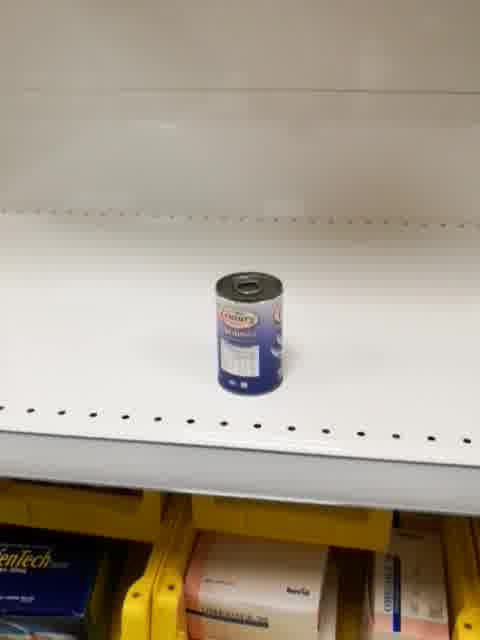sardine: (214, 270, 286, 398)
